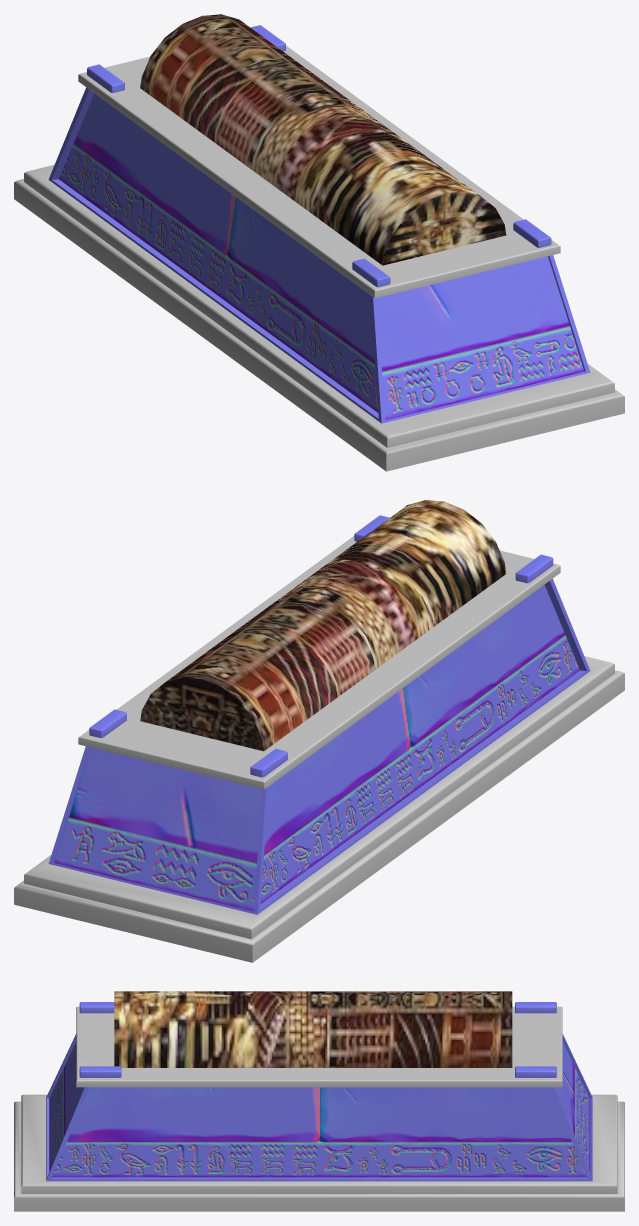
Rendered from Sarcouphagus.fbx.
3 views of the same model, one above another, from view 1: azimuth 30°, elevation 25°; view 2: azimuth 150°, elevation 25°; view 3: azimuth 270°, elevation 25° (orthographic). The views are drawn at different scales.
Parts seen in each view (by area): view 1: Combined1; view 2: Combined1; view 3: Combined1.
Boxes of the visible parts, <box> form: Combined1: <box>14,14,624,471</box>; Combined1: <box>14,500,624,962</box>; Combined1: <box>14,991,624,1211</box>.
Bounding box in the file's own units: 106 × 86.68 × 286.
